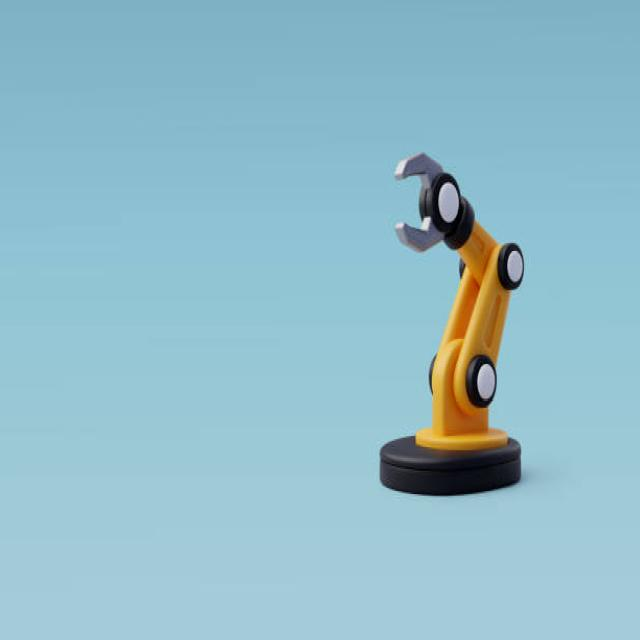Robotic-arm: (368, 134, 532, 508)
